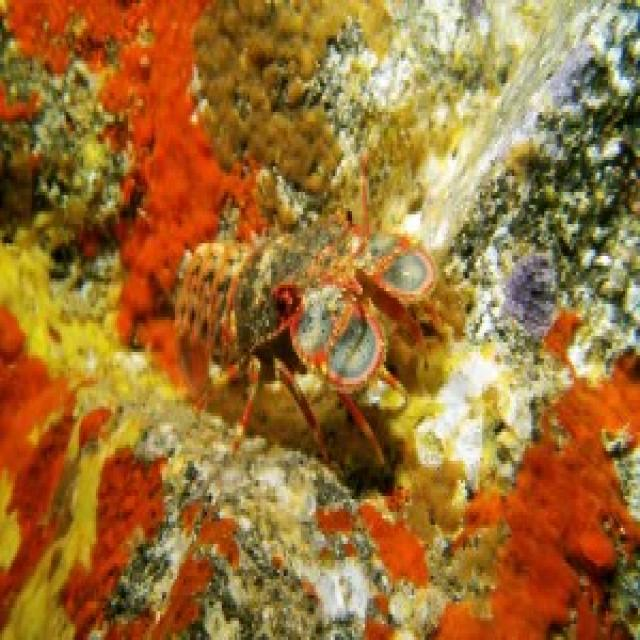lobsters: (118, 117, 533, 560)
